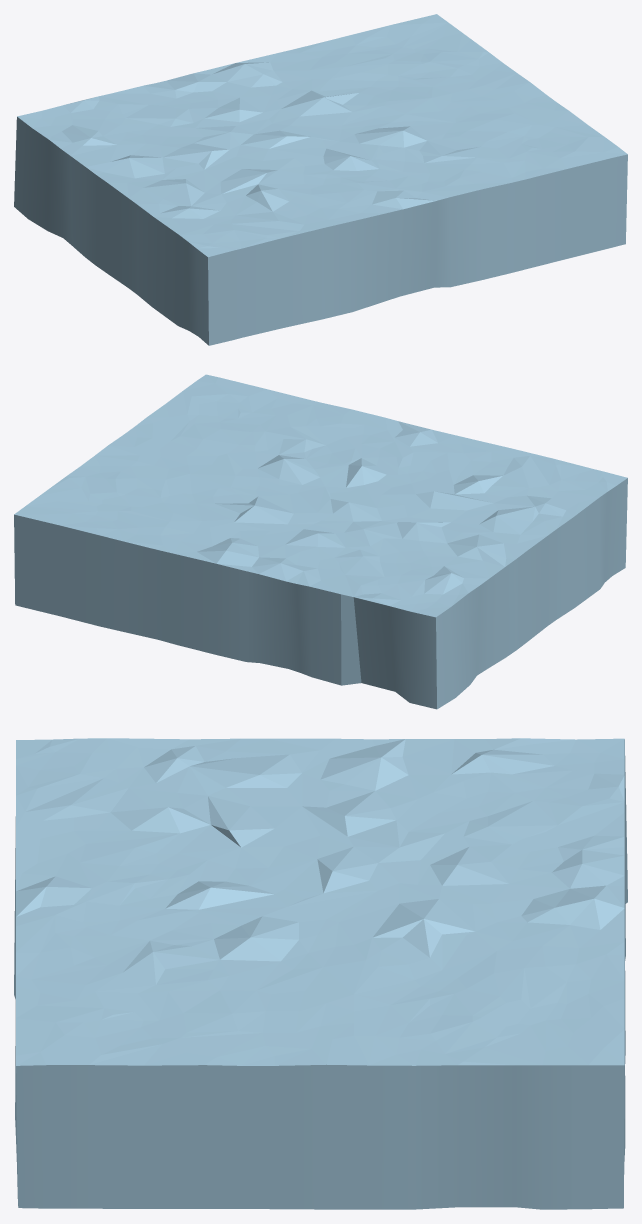
File: water.fbx
The picture shows the model from 3 angles, top to bottom: view 1: azimuth 30°, elevation 25°; view 2: azimuth 150°, elevation 25°; view 3: azimuth 270°, elevation 25°; orthographic projection. The views are drawn at different scales.
Parts seen in each view (by area): view 1: pPlane2; view 2: pPlane2; view 3: pPlane2.
Boxes of the visible parts, <box> form: pPlane2: <box>14,14,627,345</box>; pPlane2: <box>14,374,627,709</box>; pPlane2: <box>14,738,627,1209</box>.
Size of the model in its own units: 249 by 54.22 by 196.
